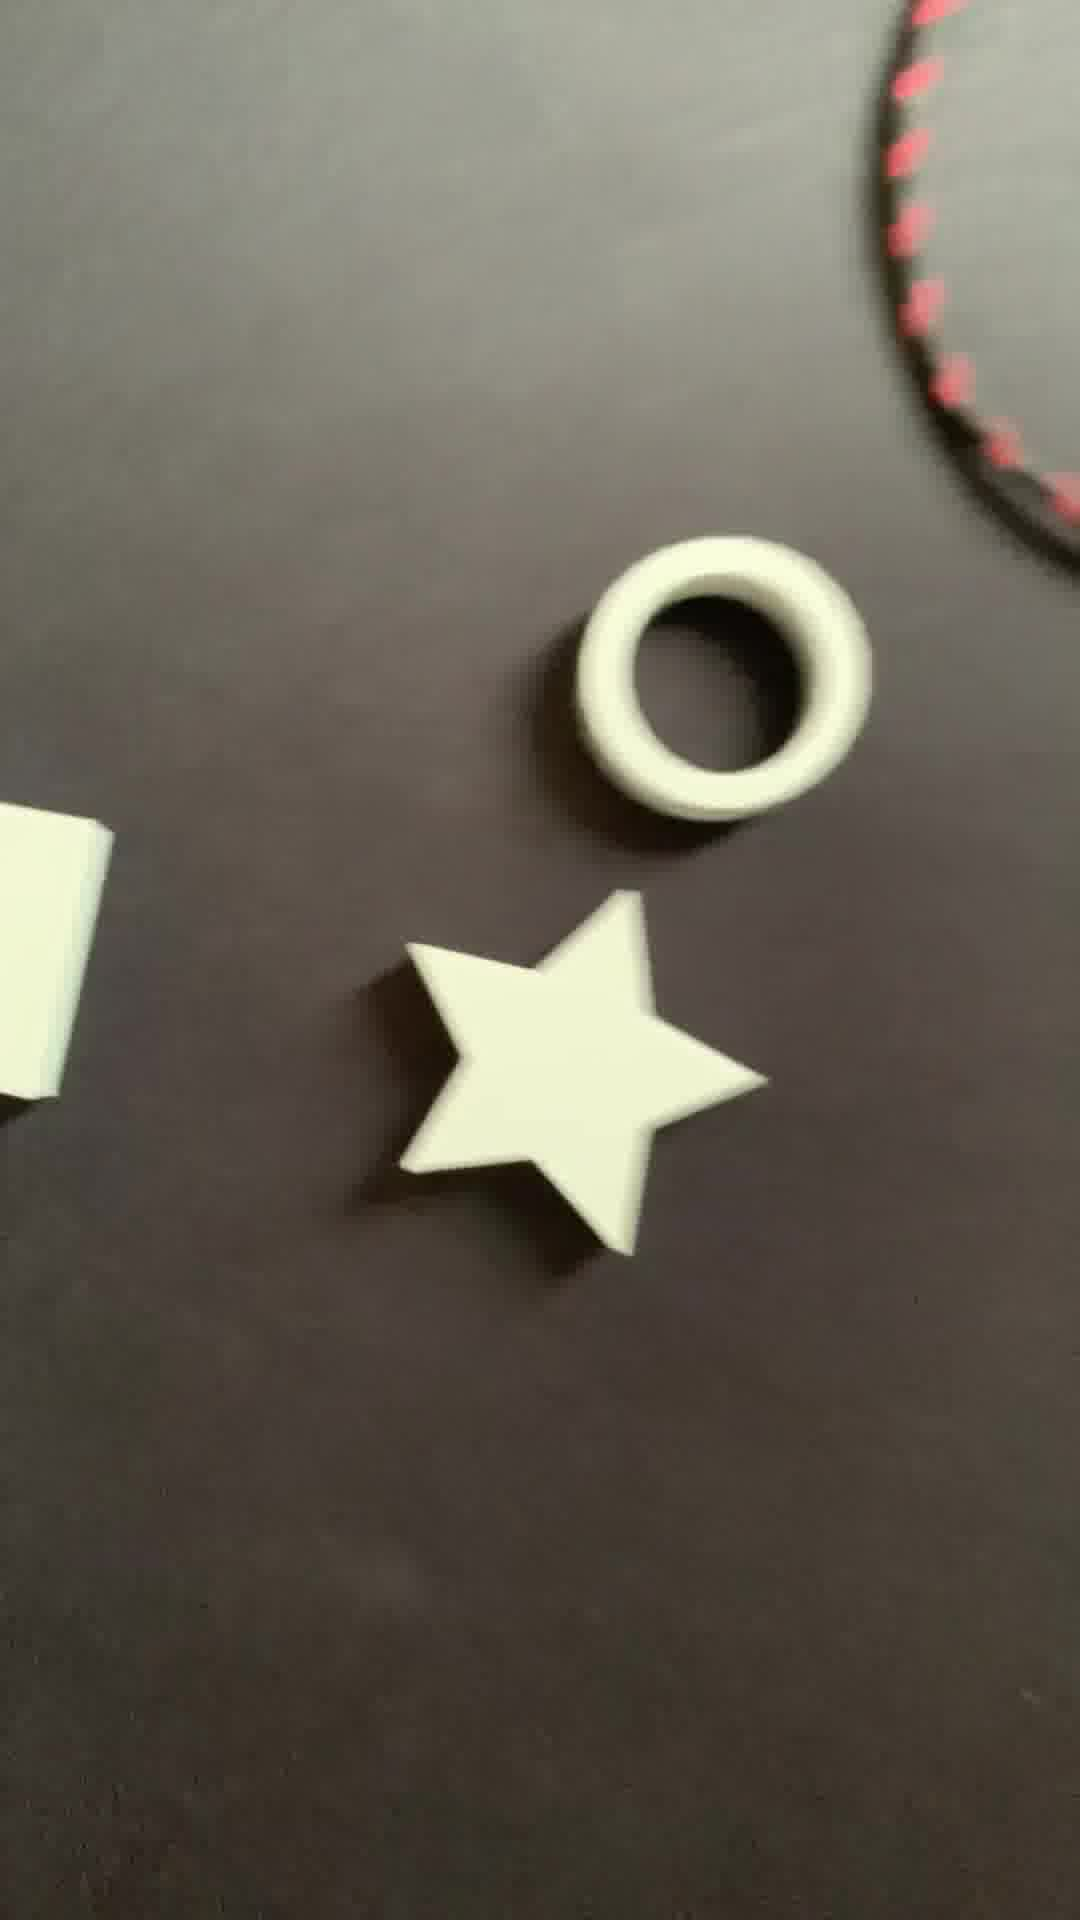Gray ring: (574, 531, 882, 843)
Gray square: (1, 791, 133, 1106)
Gray star: (375, 886, 769, 1245)
